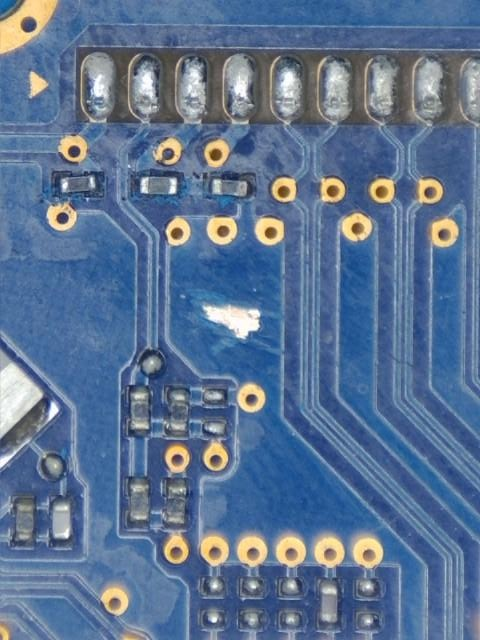pcb_defect: (81, 52, 117, 120), (318, 55, 354, 123), (223, 53, 258, 122), (271, 53, 306, 121), (365, 55, 400, 123), (413, 56, 447, 123), (176, 55, 208, 123), (129, 56, 161, 121), (203, 305, 259, 340), (461, 58, 480, 123)
